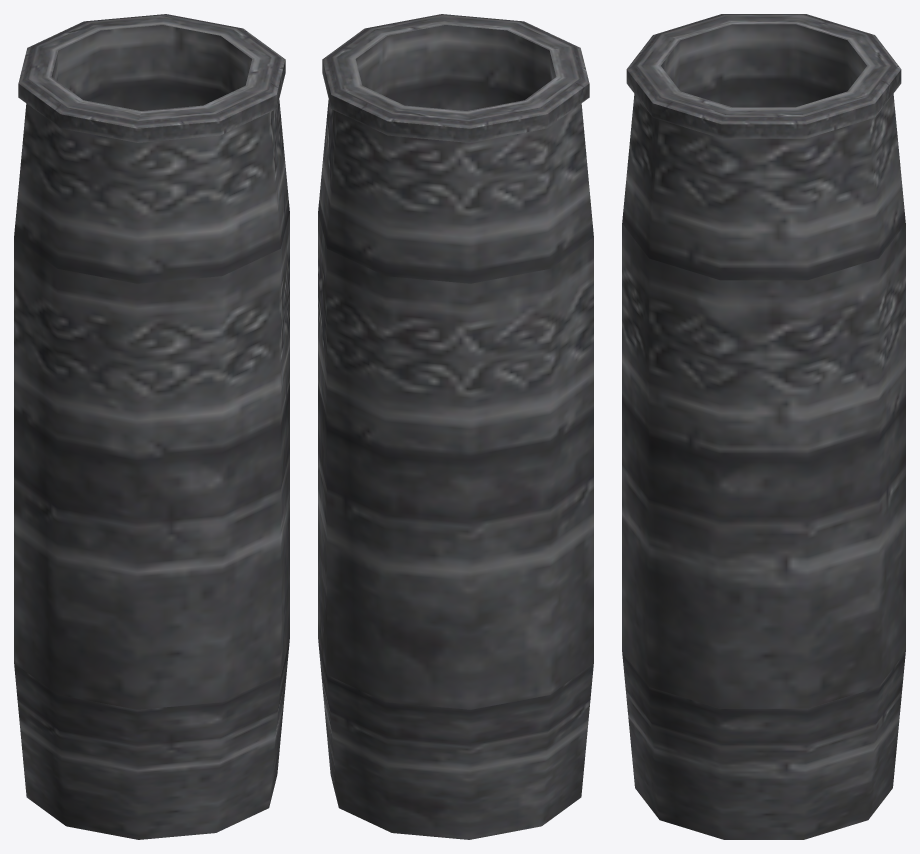
The model's file is vase-03.fbx.
3 renders of one model, left to right at view 1: azimuth 30°, elevation 25°; view 2: azimuth 150°, elevation 25°; view 3: azimuth 270°, elevation 25°, orthographic.
Parts seen in each view (by area): view 1: Cylinder.064; view 2: Cylinder.064; view 3: Cylinder.064.
Boxes of the visible parts, bbox=[...] form: Cylinder.064: bbox=[14, 14, 289, 839]; Cylinder.064: bbox=[318, 14, 593, 839]; Cylinder.064: bbox=[622, 14, 905, 839].
Bounding box in the file's own units: 0.4185 × 1.24 × 0.44.
